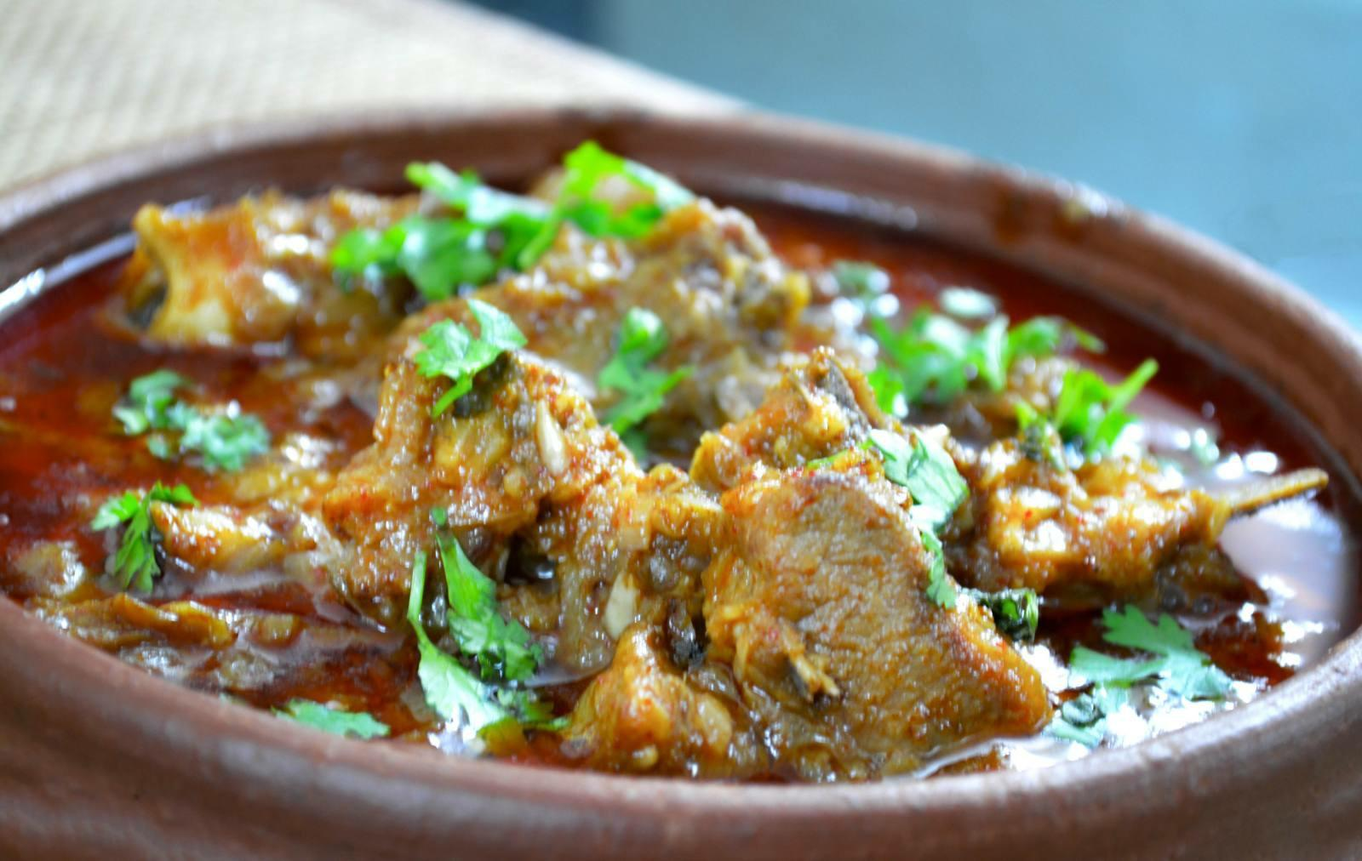MuttonCurry: (0, 137, 1362, 789)
